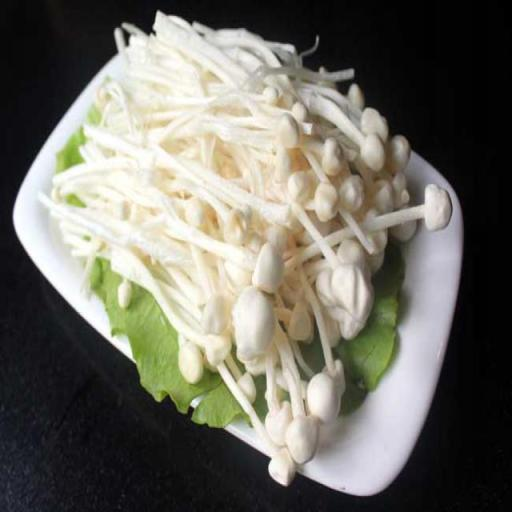Enoki Mushroom: (38, 13, 452, 482)
